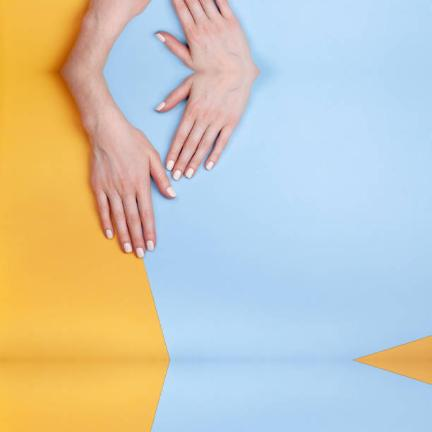Nail: (167, 186, 177, 198), (185, 168, 195, 178), (146, 240, 155, 251), (166, 160, 175, 171), (124, 243, 133, 253), (173, 170, 182, 180), (205, 161, 215, 170), (155, 102, 165, 111), (155, 33, 165, 42), (105, 229, 113, 239), (136, 248, 144, 258)
